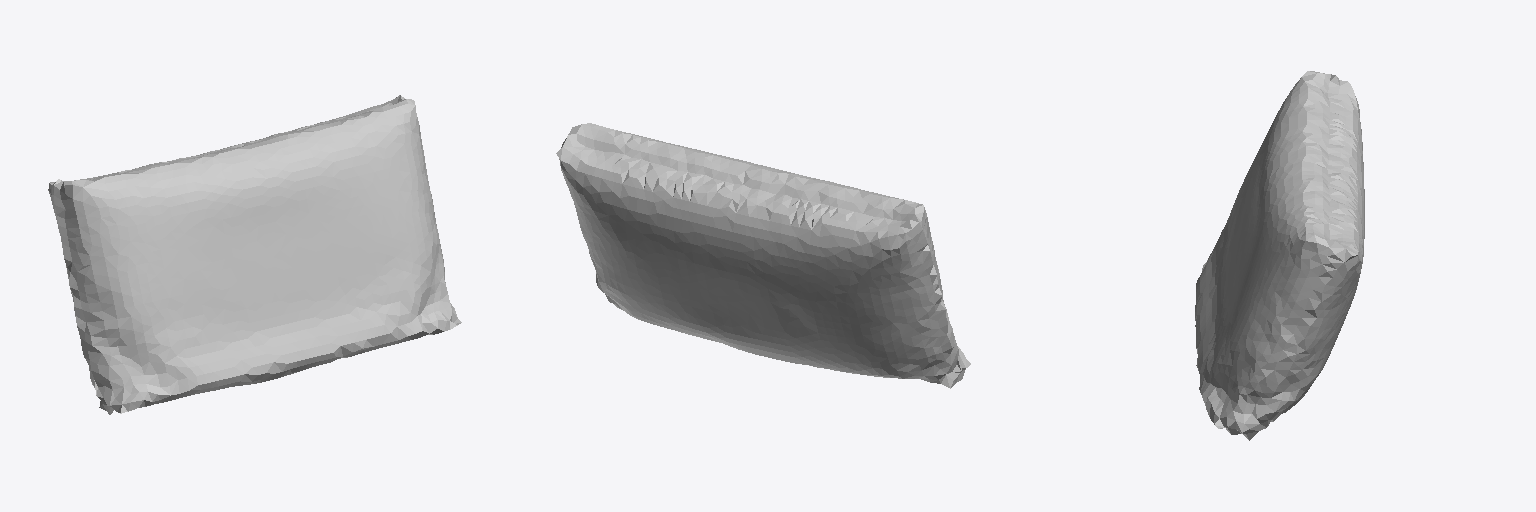
The model's file is sofa_pillow.obj.
3 views of the same model, side by side, from view 1: azimuth 30°, elevation 25°; view 2: azimuth 150°, elevation 25°; view 3: azimuth 270°, elevation 25° (orthographic).
Visible parts, largest first — view 1: Cube.029_Cube.008; view 2: Cube.029_Cube.008; view 3: Cube.029_Cube.008.
Part boxes in pixels (x1,y1,x2,y2): Cube.029_Cube.008: (48, 95, 461, 414); Cube.029_Cube.008: (556, 123, 970, 388); Cube.029_Cube.008: (1195, 71, 1364, 440).
Bounding box in the file's own units: 0.5927 × 0.3243 × 0.2419.